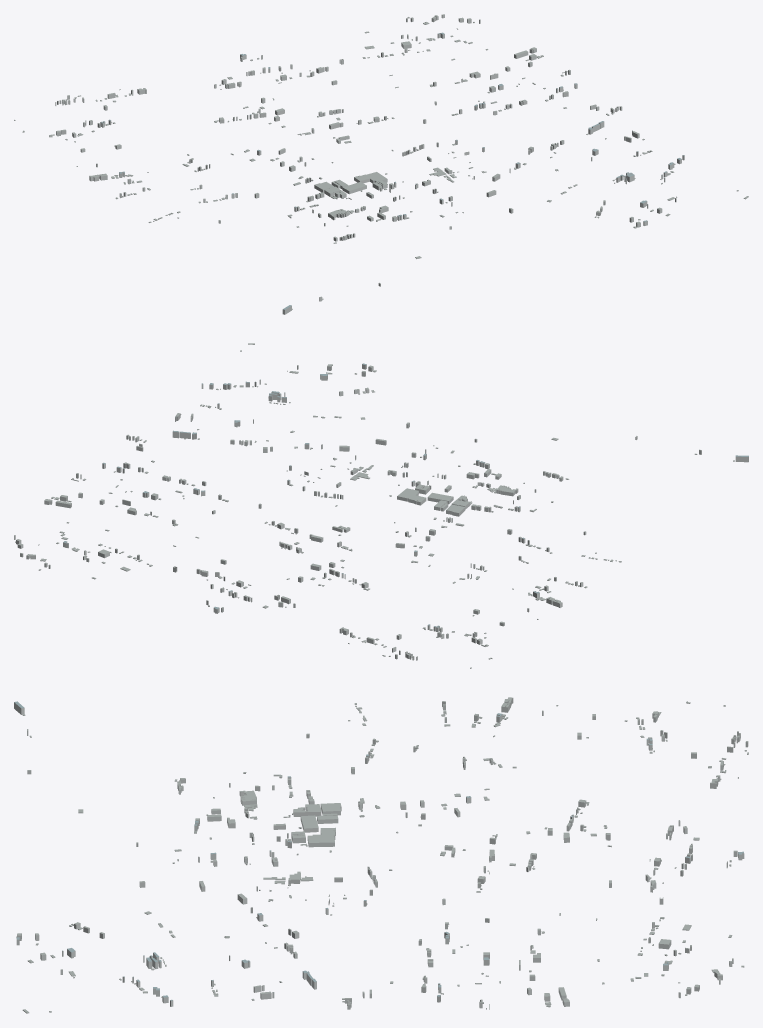
Rendered from far.glb.
3 renders of one model, top to bottom at view 1: azimuth 30°, elevation 25°; view 2: azimuth 150°, elevation 25°; view 3: azimuth 270°, elevation 25°, orthographic. The views are drawn at different scales.
Bounding box in the file's own units: 2114 × 24 × 2107.
